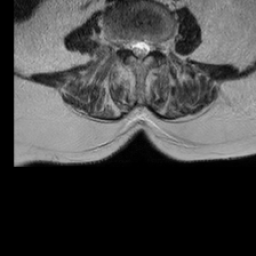CCS_normal: (137, 31, 143, 66)
LFS_stenosis: (150, 33, 158, 57)
LLS_normal: (143, 32, 150, 60)
RFS_normal: (121, 32, 129, 57)
RLS_normal: (129, 33, 137, 59)
